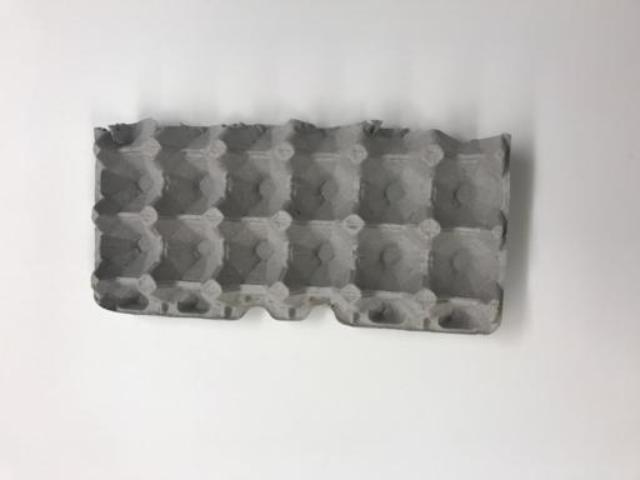cardboard paper: (91, 119, 508, 331)
